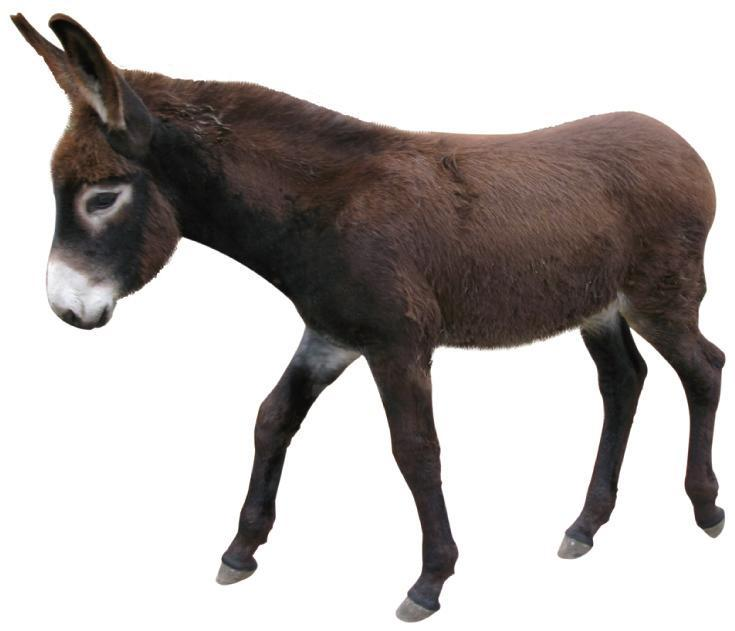background: (33, 13, 730, 609)
